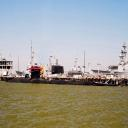submarine: (6, 66, 121, 88)
